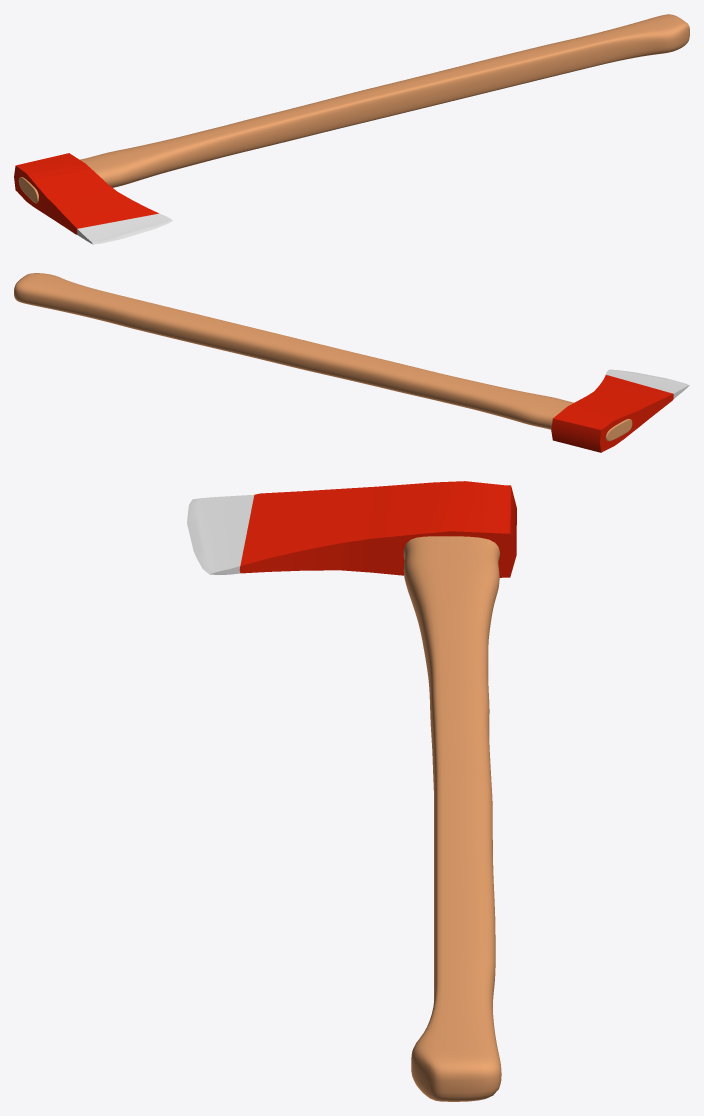
Rendered from axeExport-2.fbx.
The picture shows the model from 3 angles, top to bottom: view 1: azimuth 30°, elevation 25°; view 2: azimuth 150°, elevation 25°; view 3: azimuth 270°, elevation 25°; orthographic projection. The views are drawn at different scales.
Parts seen in each view (by area): view 1: Handle.001; view 2: Handle.001; view 3: Handle.001.
Boxes of the visible parts, x1,y1,x2,y2 form: Handle.001: (14,14,689,244); Handle.001: (14,273,689,452); Handle.001: (187,481,516,1101).
Size of the model in its own units: 2075 by 84.02 by 491.
